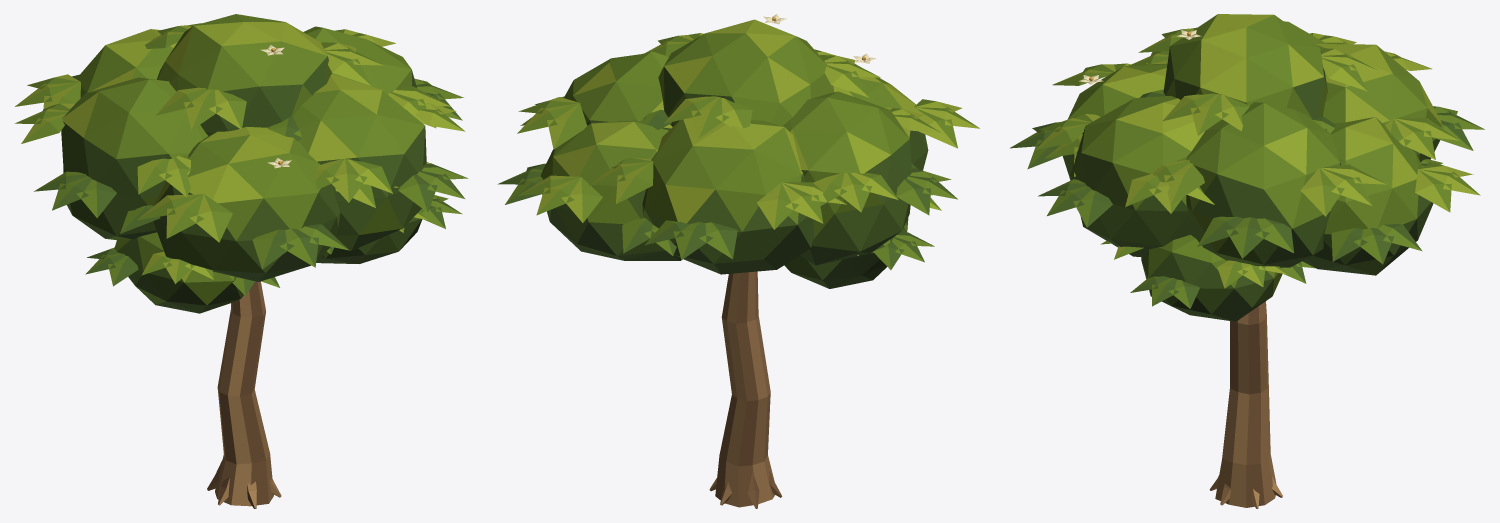
Rendered from tree_round_b.glb.
3 renders of one model, left to right at view 1: azimuth 30°, elevation 25°; view 2: azimuth 150°, elevation 25°; view 3: azimuth 270°, elevation 25°, orthographic. The views are drawn at different scales.
Parts seen in each view (by area): view 1: body; view 2: body; view 3: body.
Part boxes in pixels (bbox=[...]): body: bbox=[15, 14, 468, 508]; body: bbox=[497, 14, 979, 508]; body: bbox=[1010, 14, 1484, 508].
Size of the model in its own units: 3.93 by 4.19 by 3.88.
